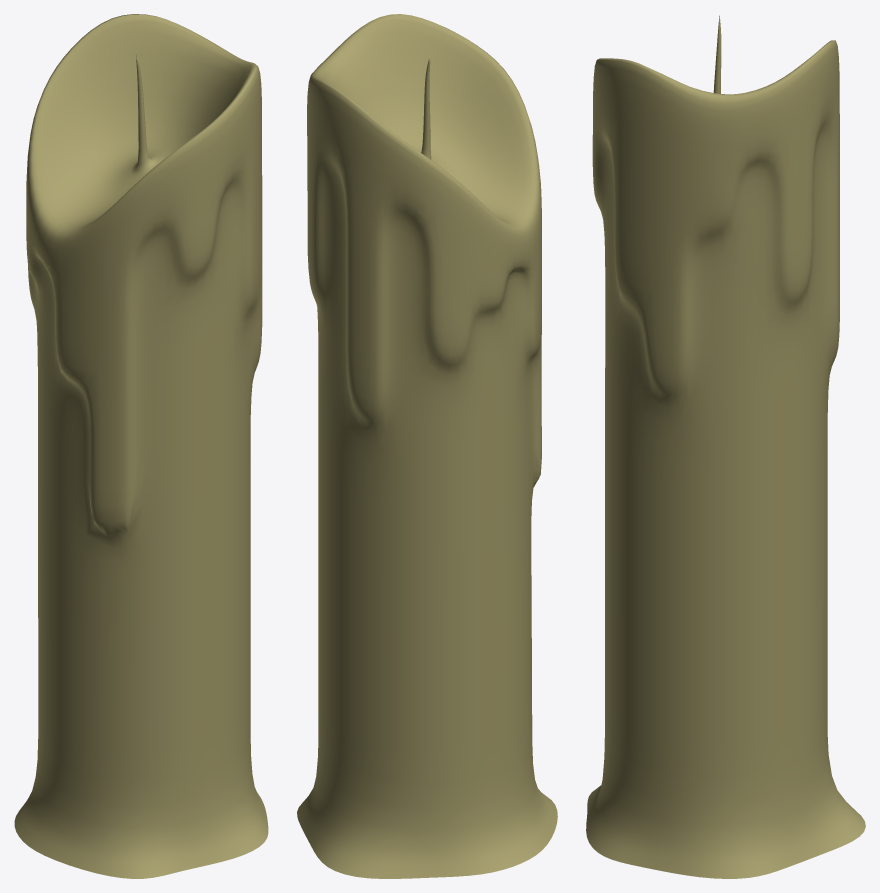
The model's file is candle_v3.FBX.
The picture shows the model from 3 angles, left to right: view 1: azimuth 30°, elevation 25°; view 2: azimuth 150°, elevation 25°; view 3: azimuth 270°, elevation 25°; orthographic projection. The views are drawn at different scales.
Parts seen in each view (by area): view 1: Cylinder002; view 2: Cylinder002; view 3: Cylinder002.
Boxes of the visible parts, x1=… form: Cylinder002: x1=14, y1=14, x2=268, y2=878; Cylinder002: x1=297, y1=14, x2=557, y2=878; Cylinder002: x1=586, y1=15, x2=865, y2=878.
Bounding box in the file's own units: 13.7 × 44.67 × 14.05.
